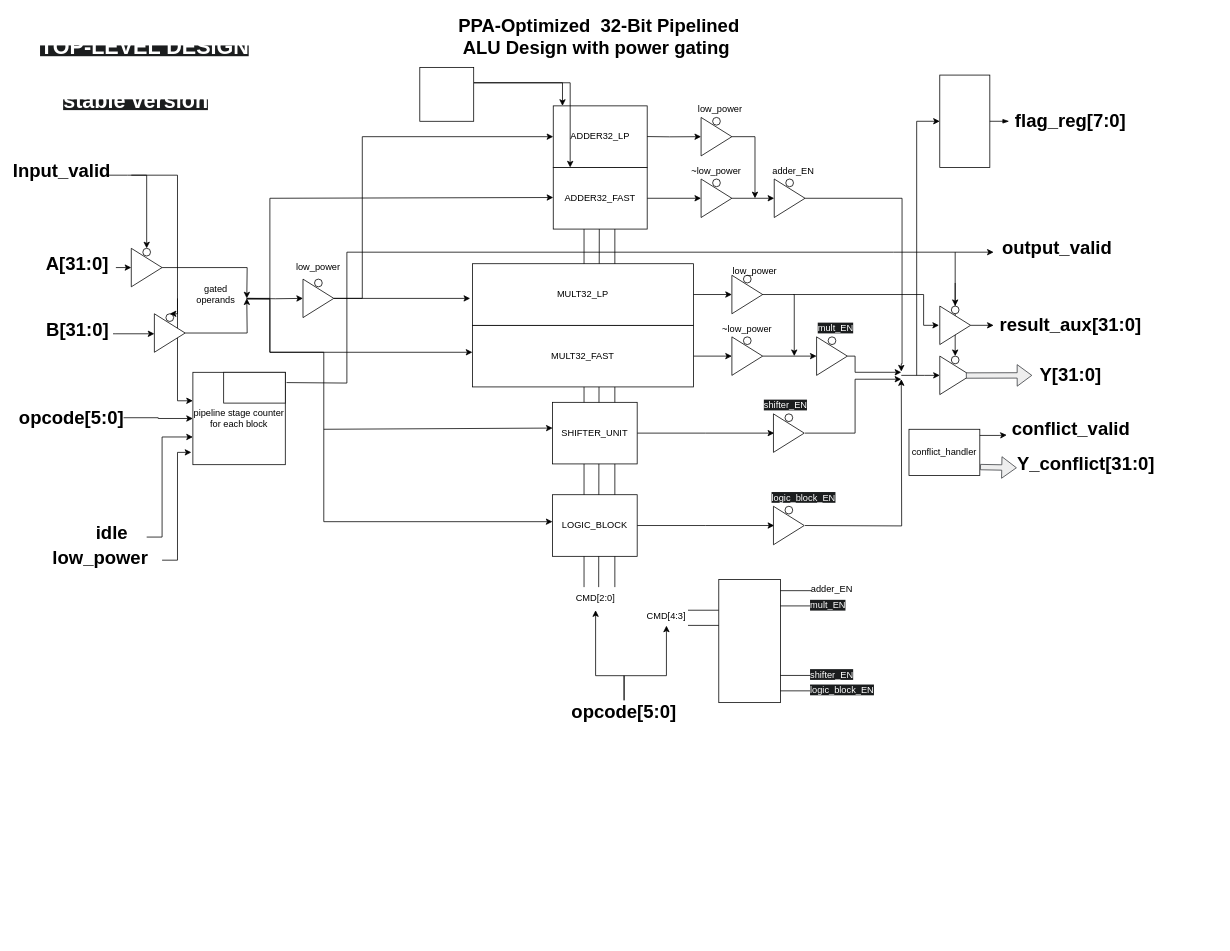
The diagram is 1230 pixels wide and 951 high, and some of its shapes have lost their labels. The shapes that lost their labels are listed below. From the top down, each one's centre as x and y in pixels, then its label:
the point at 446,94: C0 & ADD/SUB control logic
the point at 964,120: flag register
the point at 254,387: output_validity checker
the point at 749,641: 2-4 DECODER
